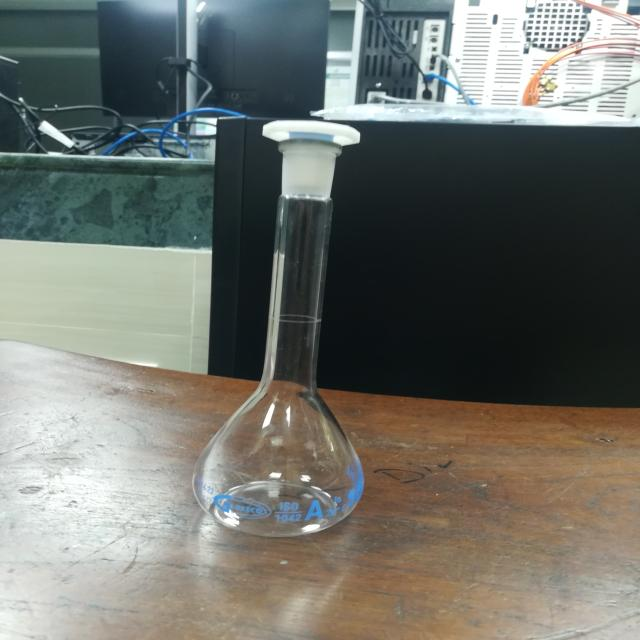Volumetric_Flask: (183, 83, 408, 556)
